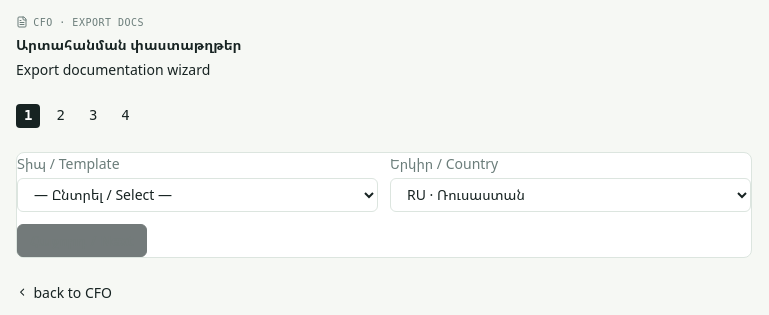
ExportDocs — auto-fill POST › renders a role=alert error when auto-fill rejects
Select "Արտահանման հաշիվ / Export invoice" in the dropdown with test id "export-docs-template-select" at point(198, 195), box [17,178,378,212]
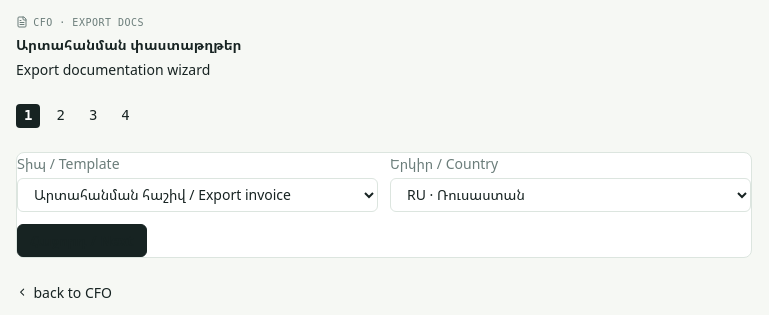
Click the button with test id "export-docs-next-button".
click(82, 240)  # box [17,224,146,257]
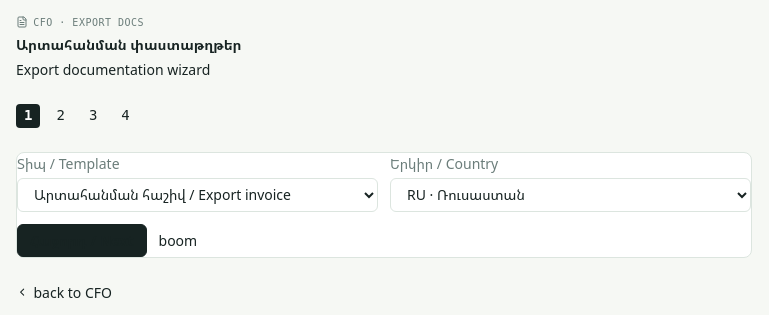
Now the message with test id "export-docs-error" reads "boom", box [158,231,197,250]
